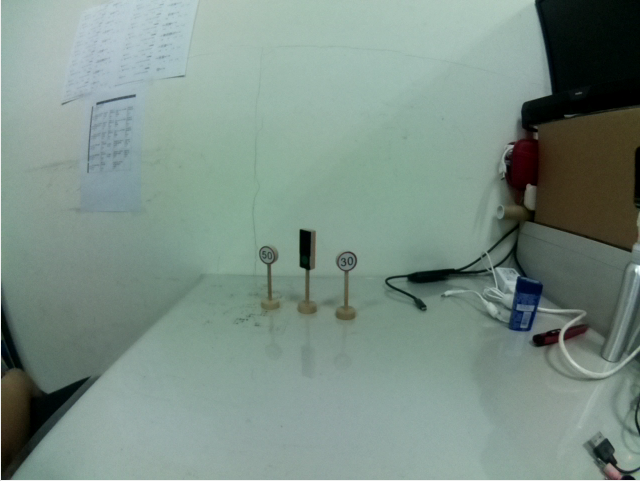Green: (293, 226, 320, 271)
Speed30: (335, 248, 358, 276)
Speed50: (255, 241, 281, 271)
